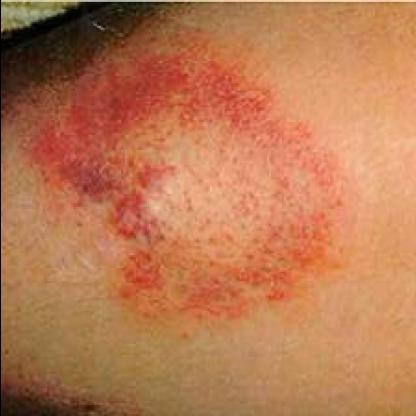Tick: (24, 34, 366, 328)
